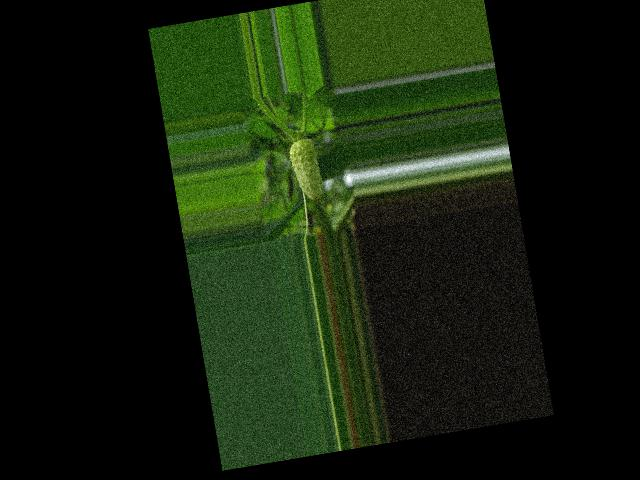cucumber: (286, 137, 324, 205)
